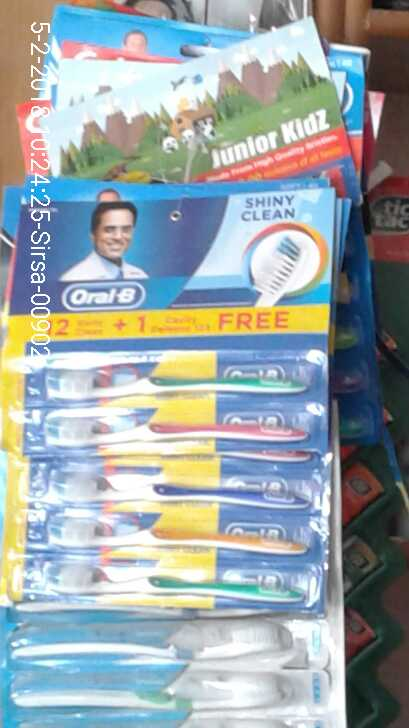oralb: (18, 557, 316, 611), (11, 454, 320, 506), (12, 503, 311, 556), (25, 358, 311, 402), (29, 405, 321, 447)
